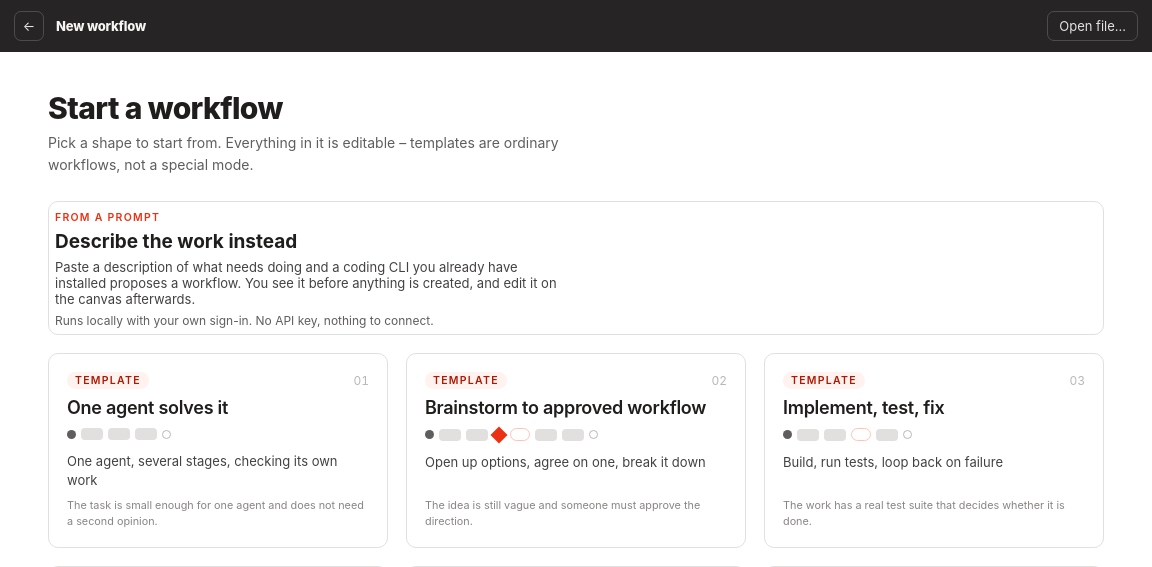
Test case: the Workflow hierarchy › names what the inspector is showing instead of offering tabs
What coordinates should you click on to do the following:
click the button "Implement, test, fix"
I would click on:
 (824, 381)
Its box is x1=764 y1=353 x2=1104 y2=548.
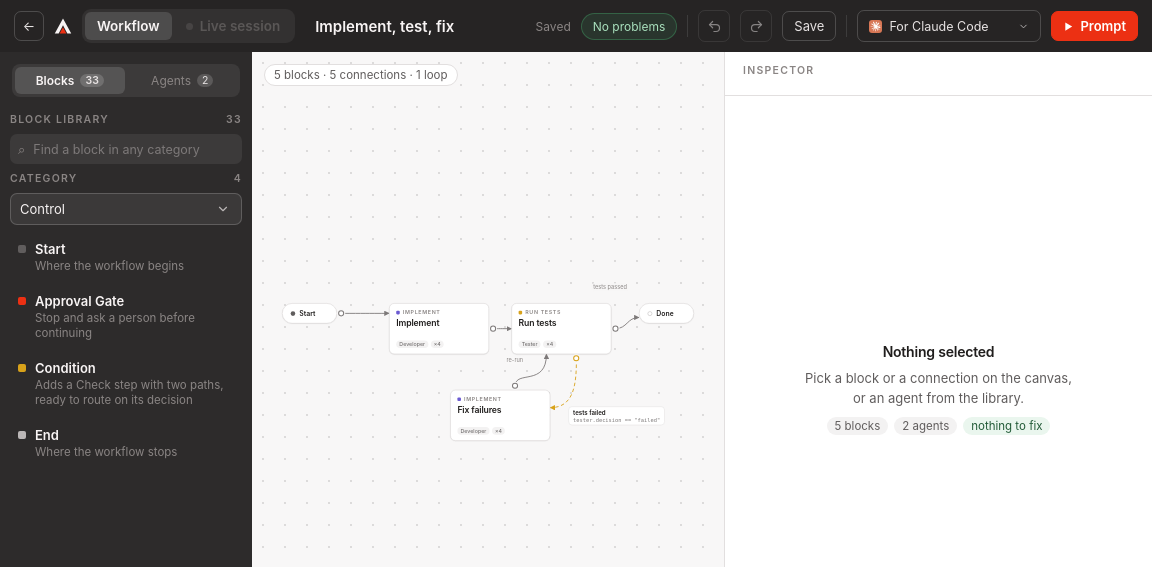
expect the button "Prompt" is shown: met, box x1=1051 y1=11 x2=1138 y2=41
expect the heading "Inspector" is shown: met, box x1=743 y1=64 x2=814 y2=77
